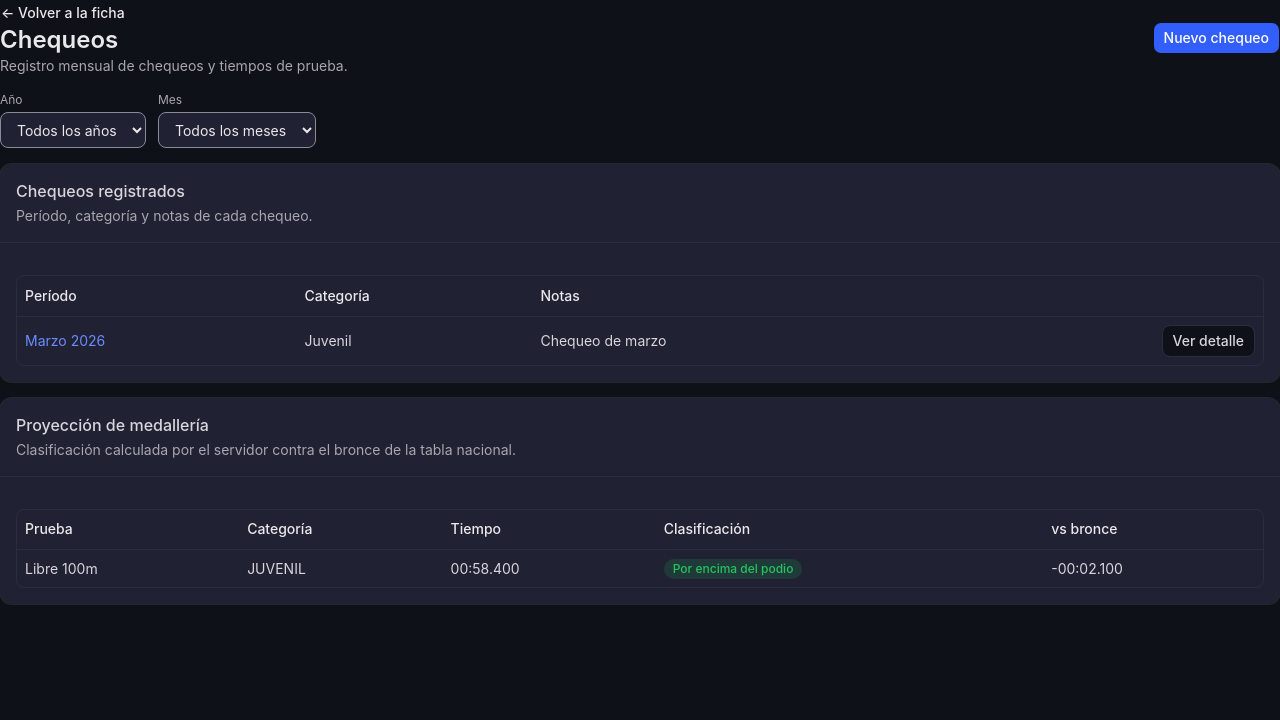
Test: CheckupFormDialog — validación local y alta (C5) › 409 residual del back se muestra con el mensaje seguro mapeado (C5)
This screenshot has width=1280, height=720.
Step 1. Click the button with test id "checkup-new-button" → (1216, 38), box [1153,22,1279,54]
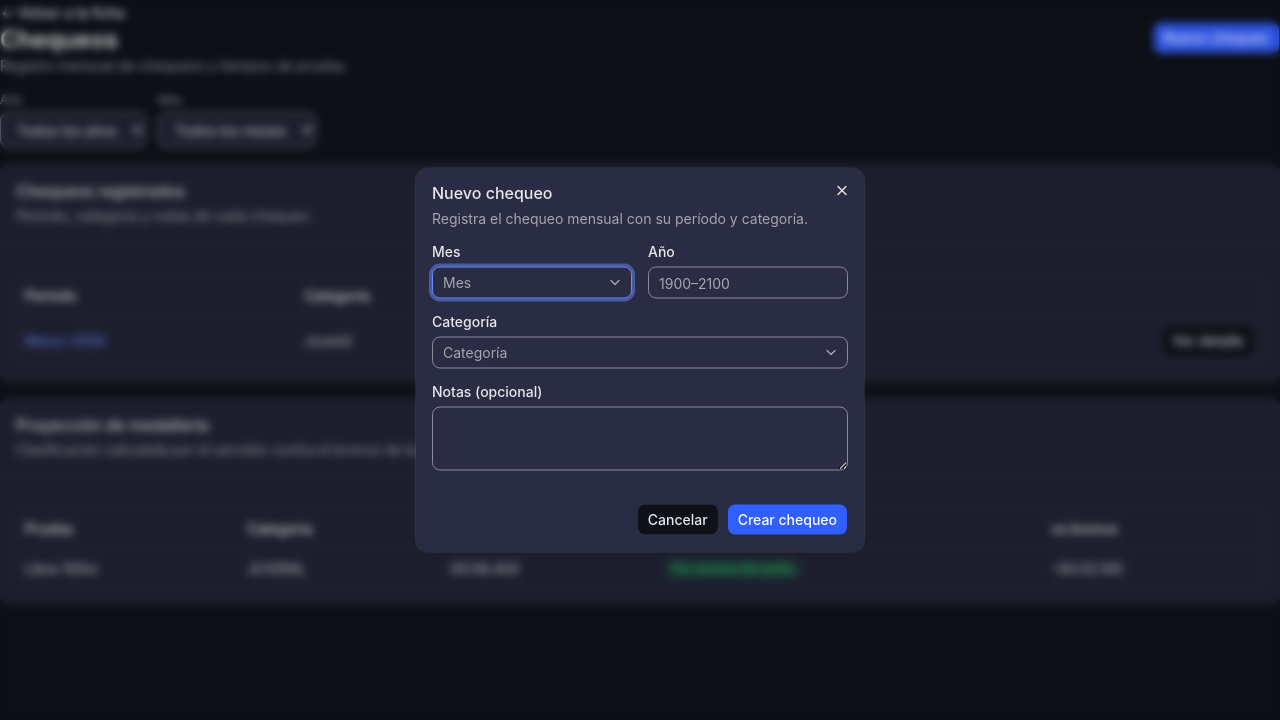
Now the dialog with test id "checkup-form-dialog" is shown, box [416,168,864,552]
Step 2. Click the dropdown with test id "checkup-form-month" → (532, 282), box [432,266,632,298]
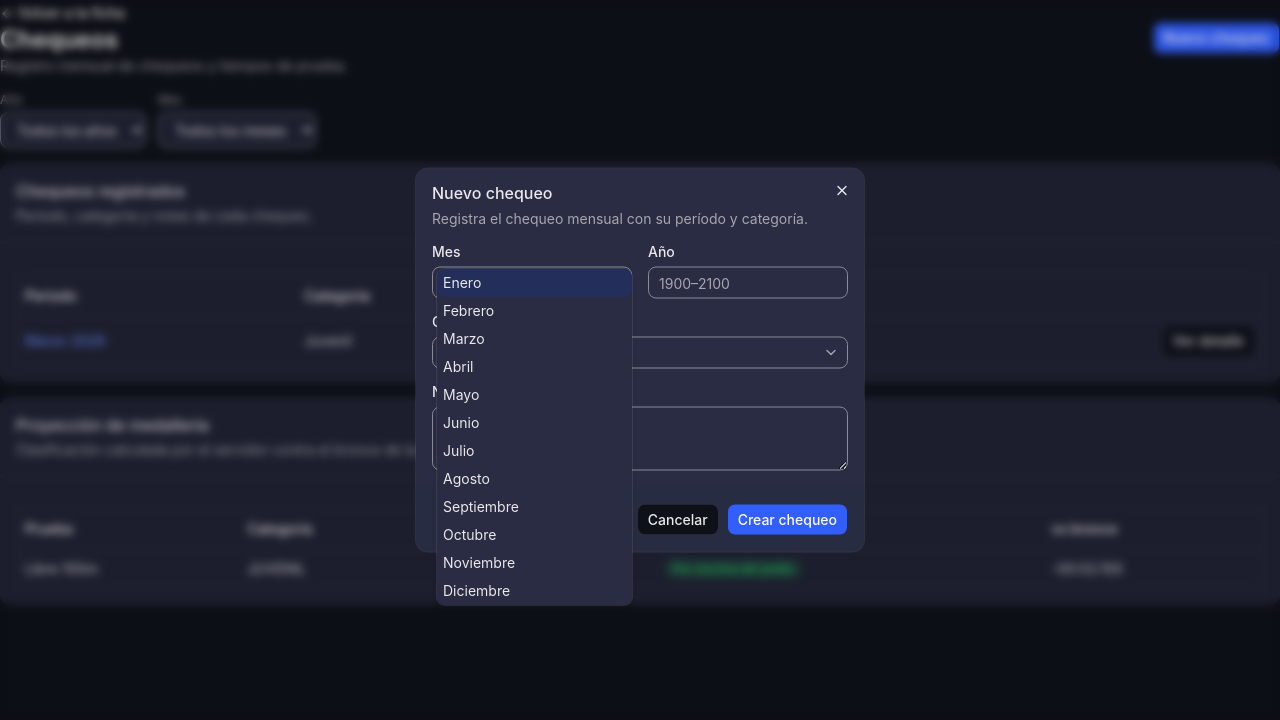
Step 3. Click the option "Marzo" → (464, 338), box [443,330,485,346]
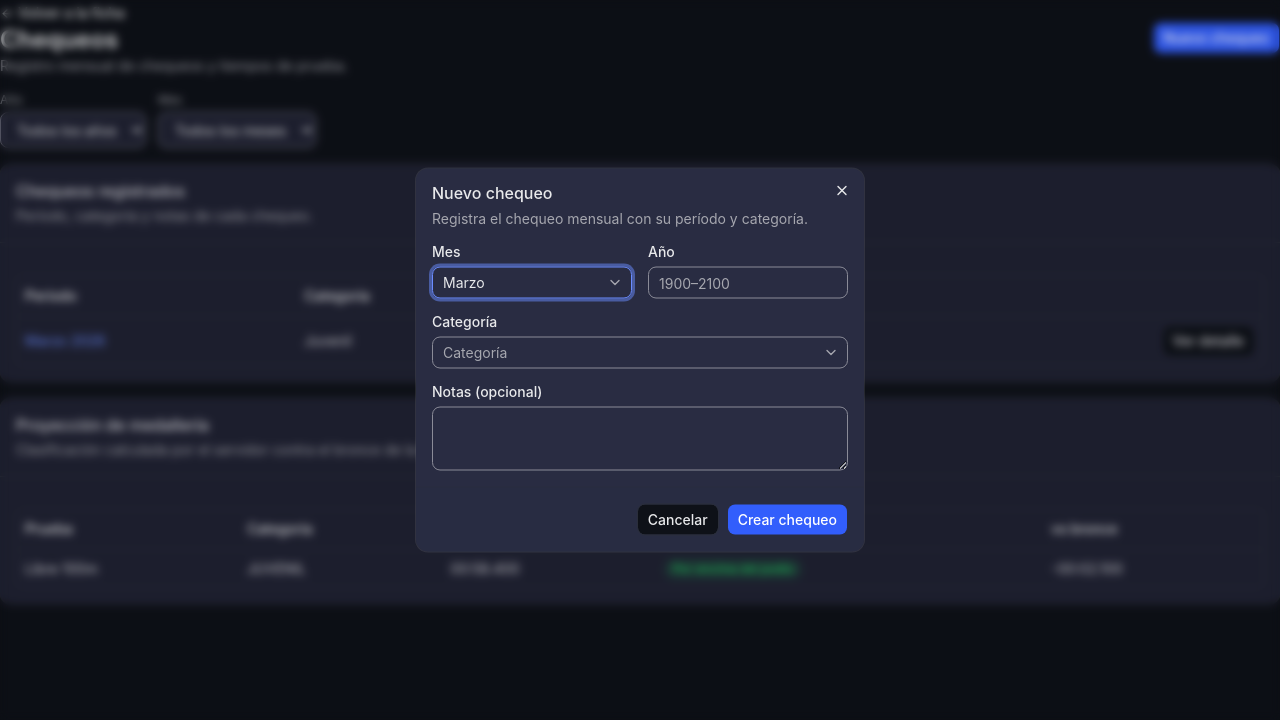
Step 4. Type "2026" into the number field with test id "checkup-form-year" → (748, 282), box [648,266,848,298]
Step 5. Click the dropdown with test id "checkup-form-category" → (475, 352), box [432,336,848,368]
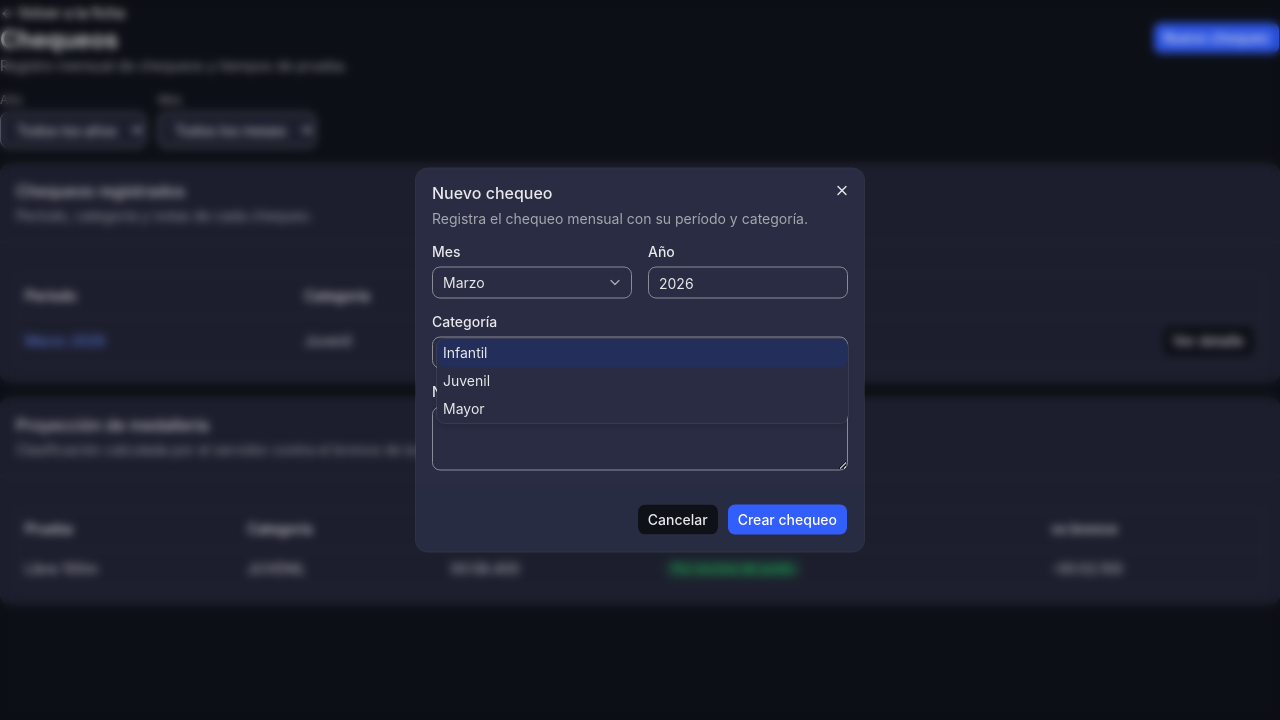
Step 6. Click the option "Mayor" → (464, 408), box [443,400,485,416]
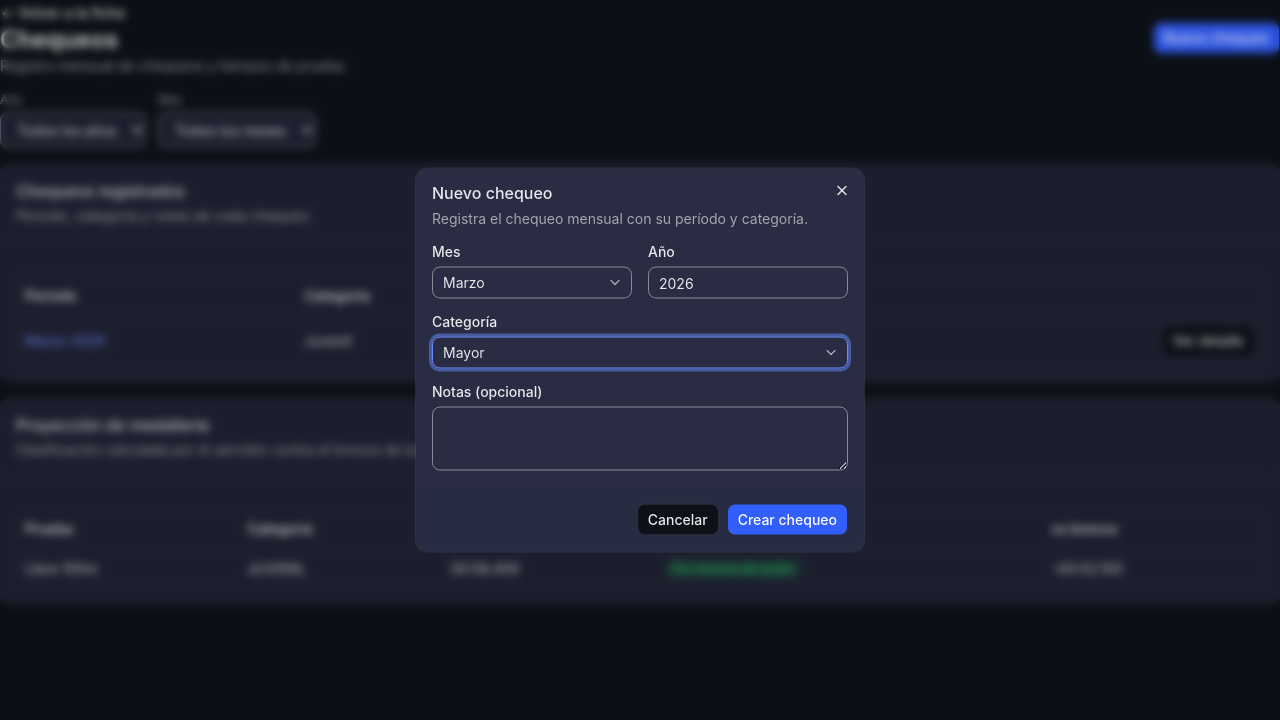
Step 7. Click the button with test id "checkup-form-submit" → (787, 520), box [727,504,848,536]
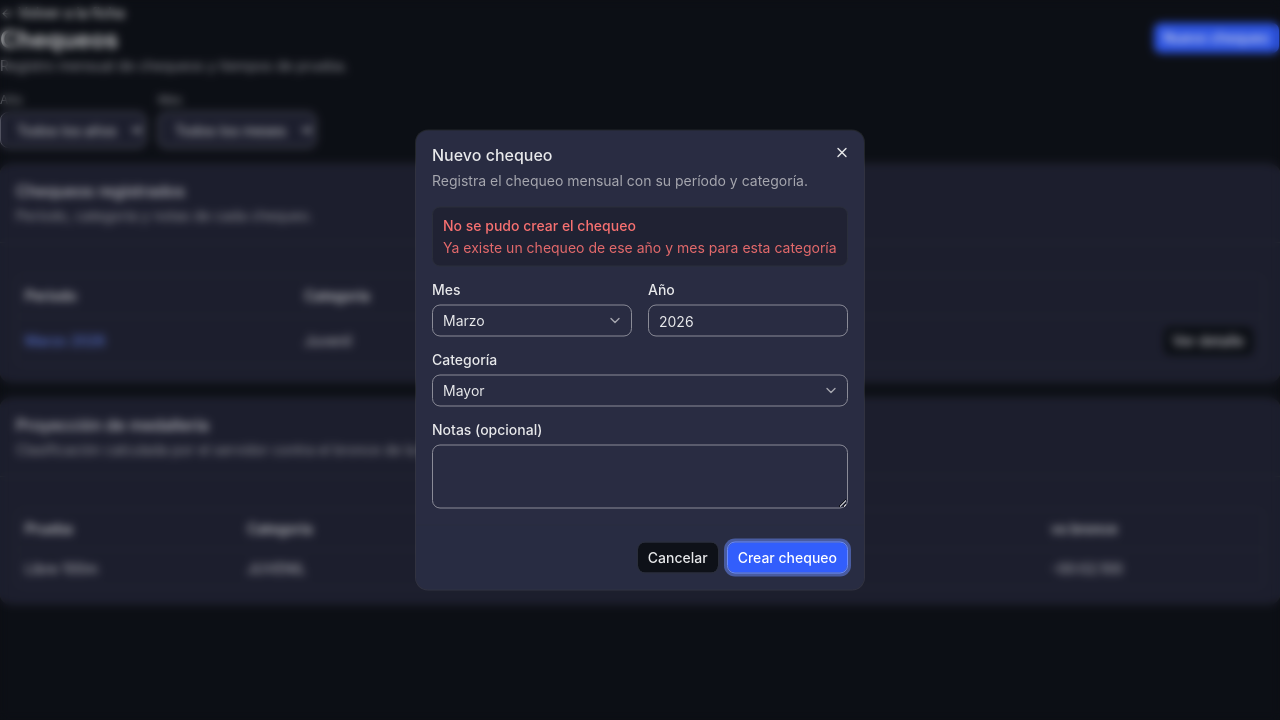
Now the text "Ya existe un chequeo de ese año y mes para esta categoría" is shown, box [443,238,837,258]
